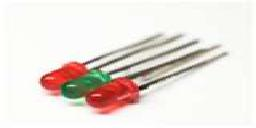LED: (39, 57, 141, 110)
